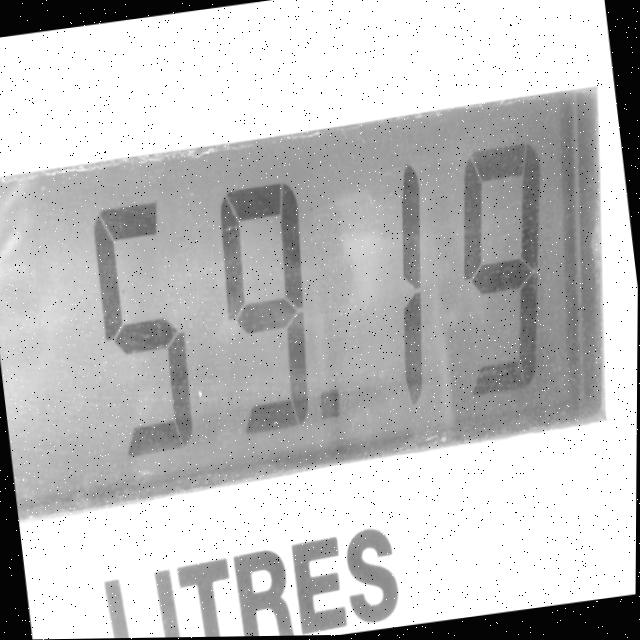.: (310, 378, 350, 445)
1: (347, 150, 453, 425)
5: (64, 186, 216, 464)
9: (432, 132, 574, 433), (196, 171, 328, 450)
